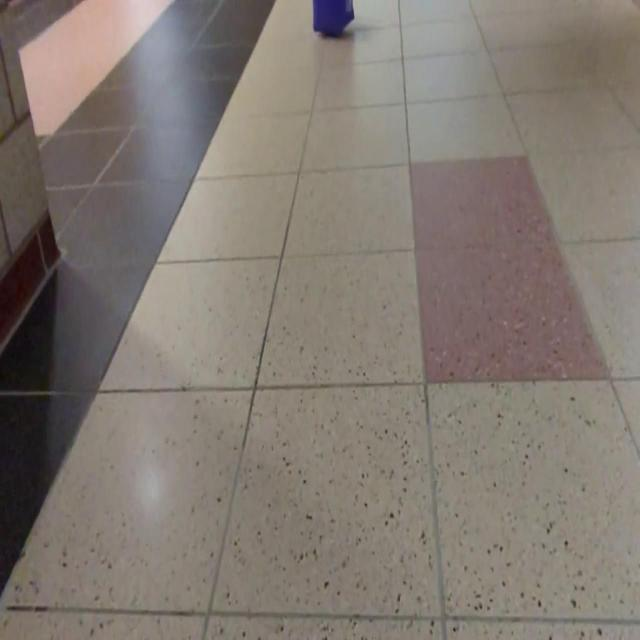frc_cube: (312, 0, 354, 36)
